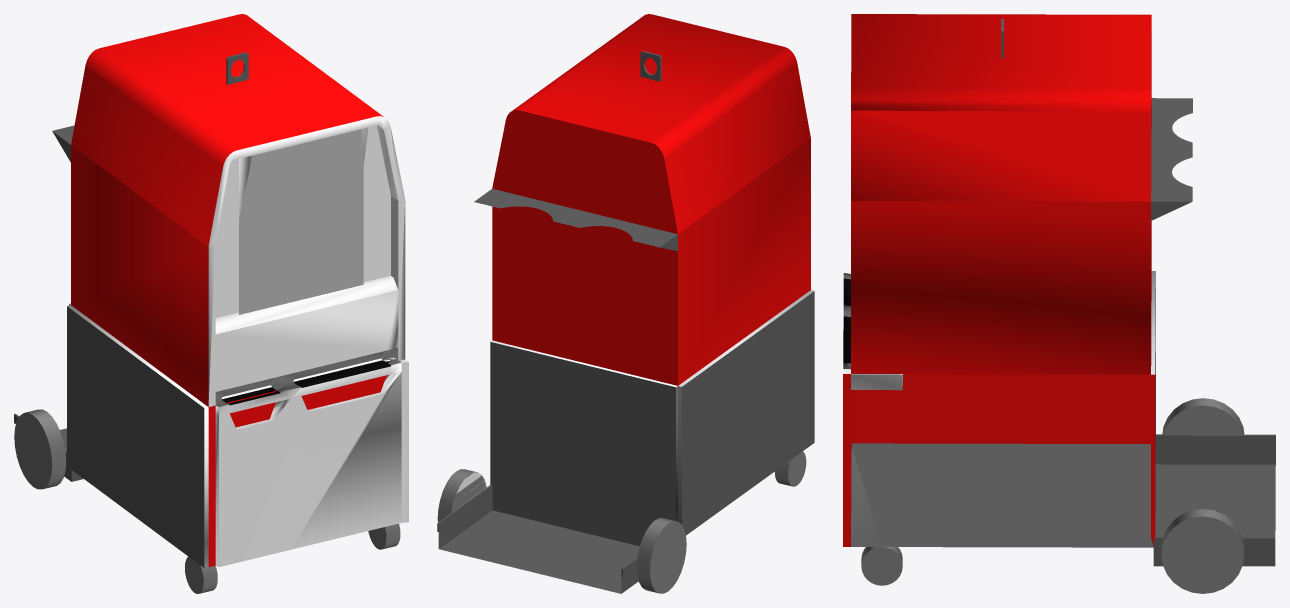
File: Generator.fbx
3 renders of one model, left to right at view 1: azimuth 30°, elevation 25°; view 2: azimuth 150°, elevation 25°; view 3: azimuth 270°, elevation 25°, orthographic. The views are drawn at different scales.
Visible parts, largest first — view 1: Generator; view 2: Generator; view 3: Generator.
Part boxes in pixels (x1,y1,x2,y2): Generator: (14,14,408,593); Generator: (437,14,814,593); Generator: (843,14,1275,593).
Bounding box in the file's own units: 65.05 × 131 × 100.
